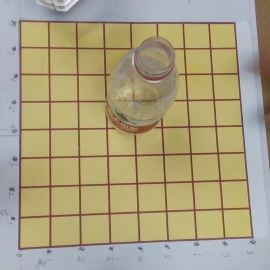bottle: (105, 37, 179, 137)
